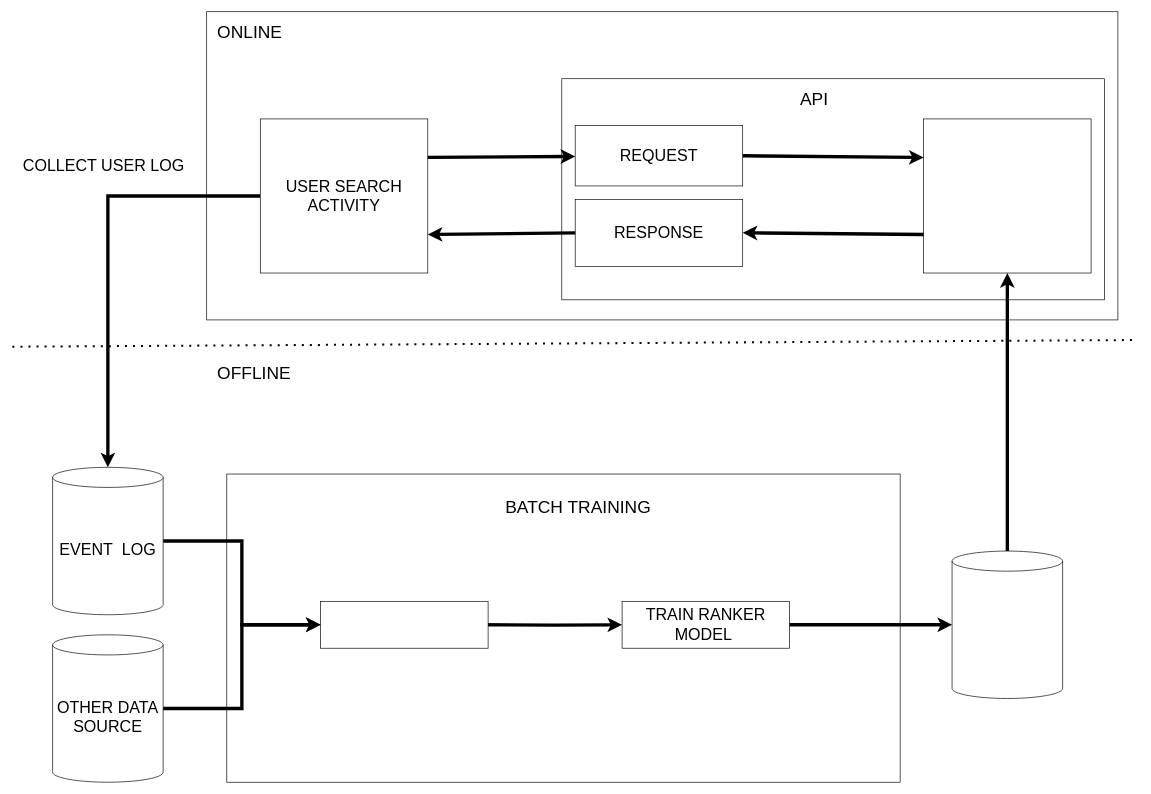
This 1151x794 diagram has some shape labels left out. Each missing label, with the box of its shape:
MODEL ARTIFACT: (951, 550, 1063, 698)
MODEL PREDICTION: (923, 118, 1091, 273)
PREPARE TRAINING DATA: (320, 601, 488, 648)
